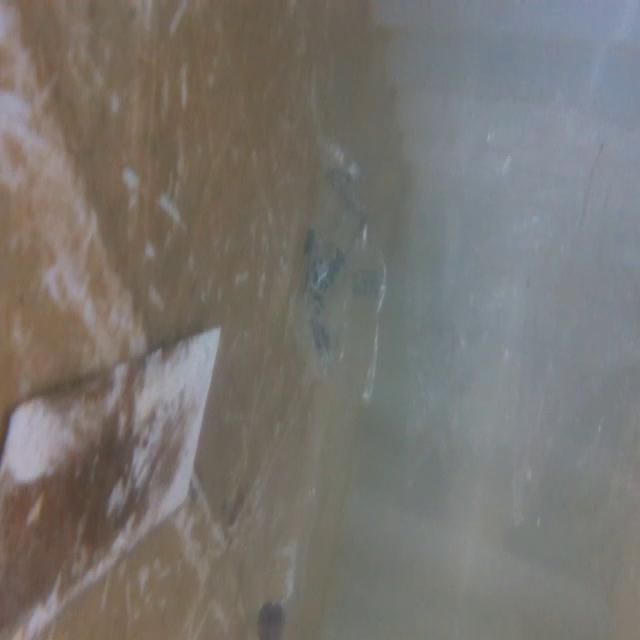plastic bags: (289, 137, 394, 412)
